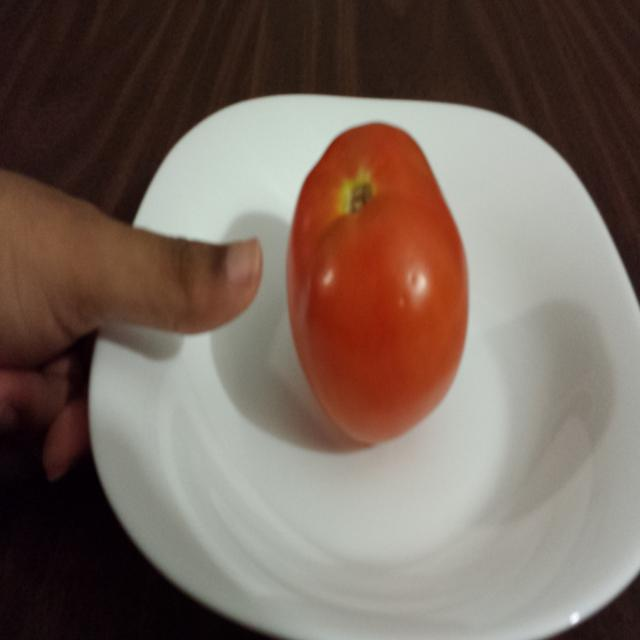tomato: (286, 122, 469, 446)
